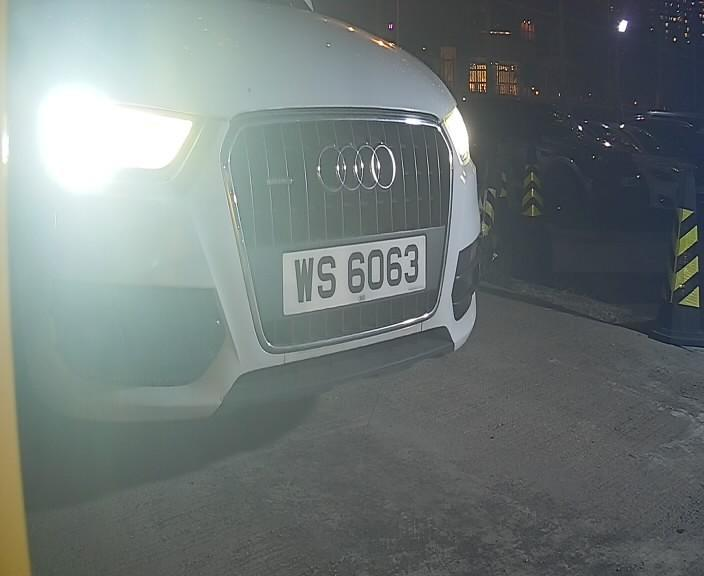privatecar: (2, 11, 501, 464)
